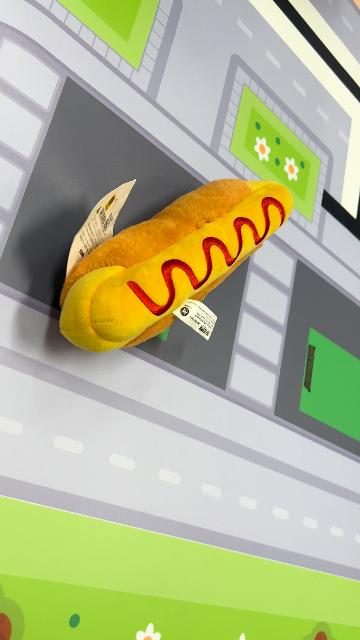hotdog: (57, 177, 294, 355)
